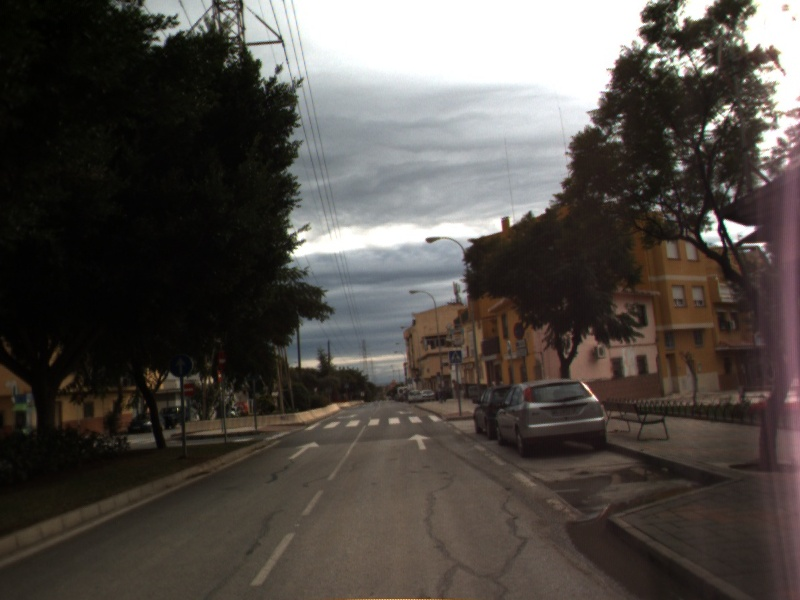STRAIGHT: (287, 439, 321, 461), (405, 432, 433, 452)
